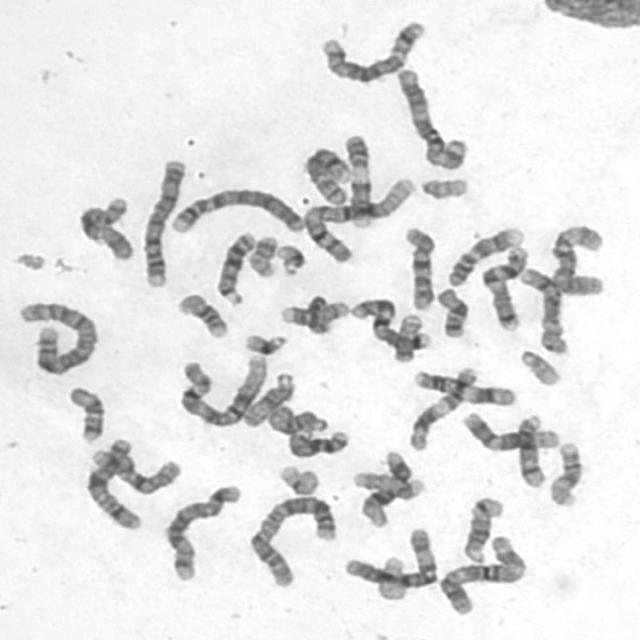A1: (300, 173, 418, 264), (172, 350, 270, 430)
A2: (242, 490, 340, 590), (12, 295, 98, 377)
A3: (390, 62, 469, 172), (431, 530, 529, 617)
B4: (163, 182, 306, 235), (135, 153, 189, 288)
B5: (158, 478, 244, 583), (314, 15, 427, 84)
C10: (84, 442, 184, 497), (399, 220, 439, 312)
C11: (403, 362, 478, 452), (408, 365, 518, 407)
C12: (352, 446, 413, 528), (457, 407, 562, 452)
C6: (338, 523, 439, 589), (543, 218, 608, 298)
C7: (346, 292, 431, 352), (476, 241, 531, 332)
C8: (518, 265, 569, 355), (298, 141, 352, 207)
C9: (441, 221, 526, 288), (338, 128, 376, 230)
D13: (211, 226, 258, 306), (282, 424, 350, 460)
D14: (457, 490, 506, 564), (510, 409, 549, 490)
D15: (235, 368, 298, 428), (262, 400, 330, 436)
E16: (171, 288, 230, 340), (543, 436, 585, 508)
E17: (346, 466, 426, 501), (275, 295, 350, 328)
E18: (61, 381, 106, 444), (431, 282, 470, 340)
F19: (370, 550, 409, 603), (273, 460, 321, 497)
F20: (388, 310, 424, 364), (242, 230, 280, 279)
G21: (270, 238, 307, 278), (238, 328, 289, 356)
G22: (514, 345, 563, 388), (414, 172, 470, 202)
X: (81, 438, 144, 532), (72, 191, 135, 262)
Y: (306, 293, 333, 335)
